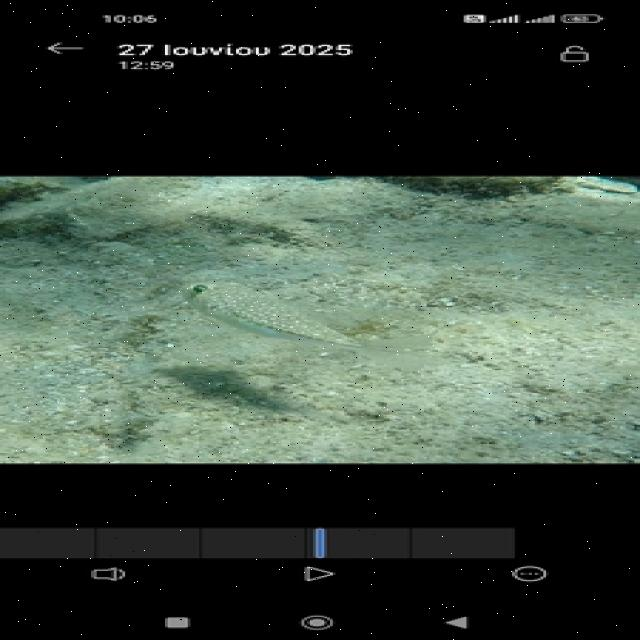Balik: (185, 283, 423, 353)
